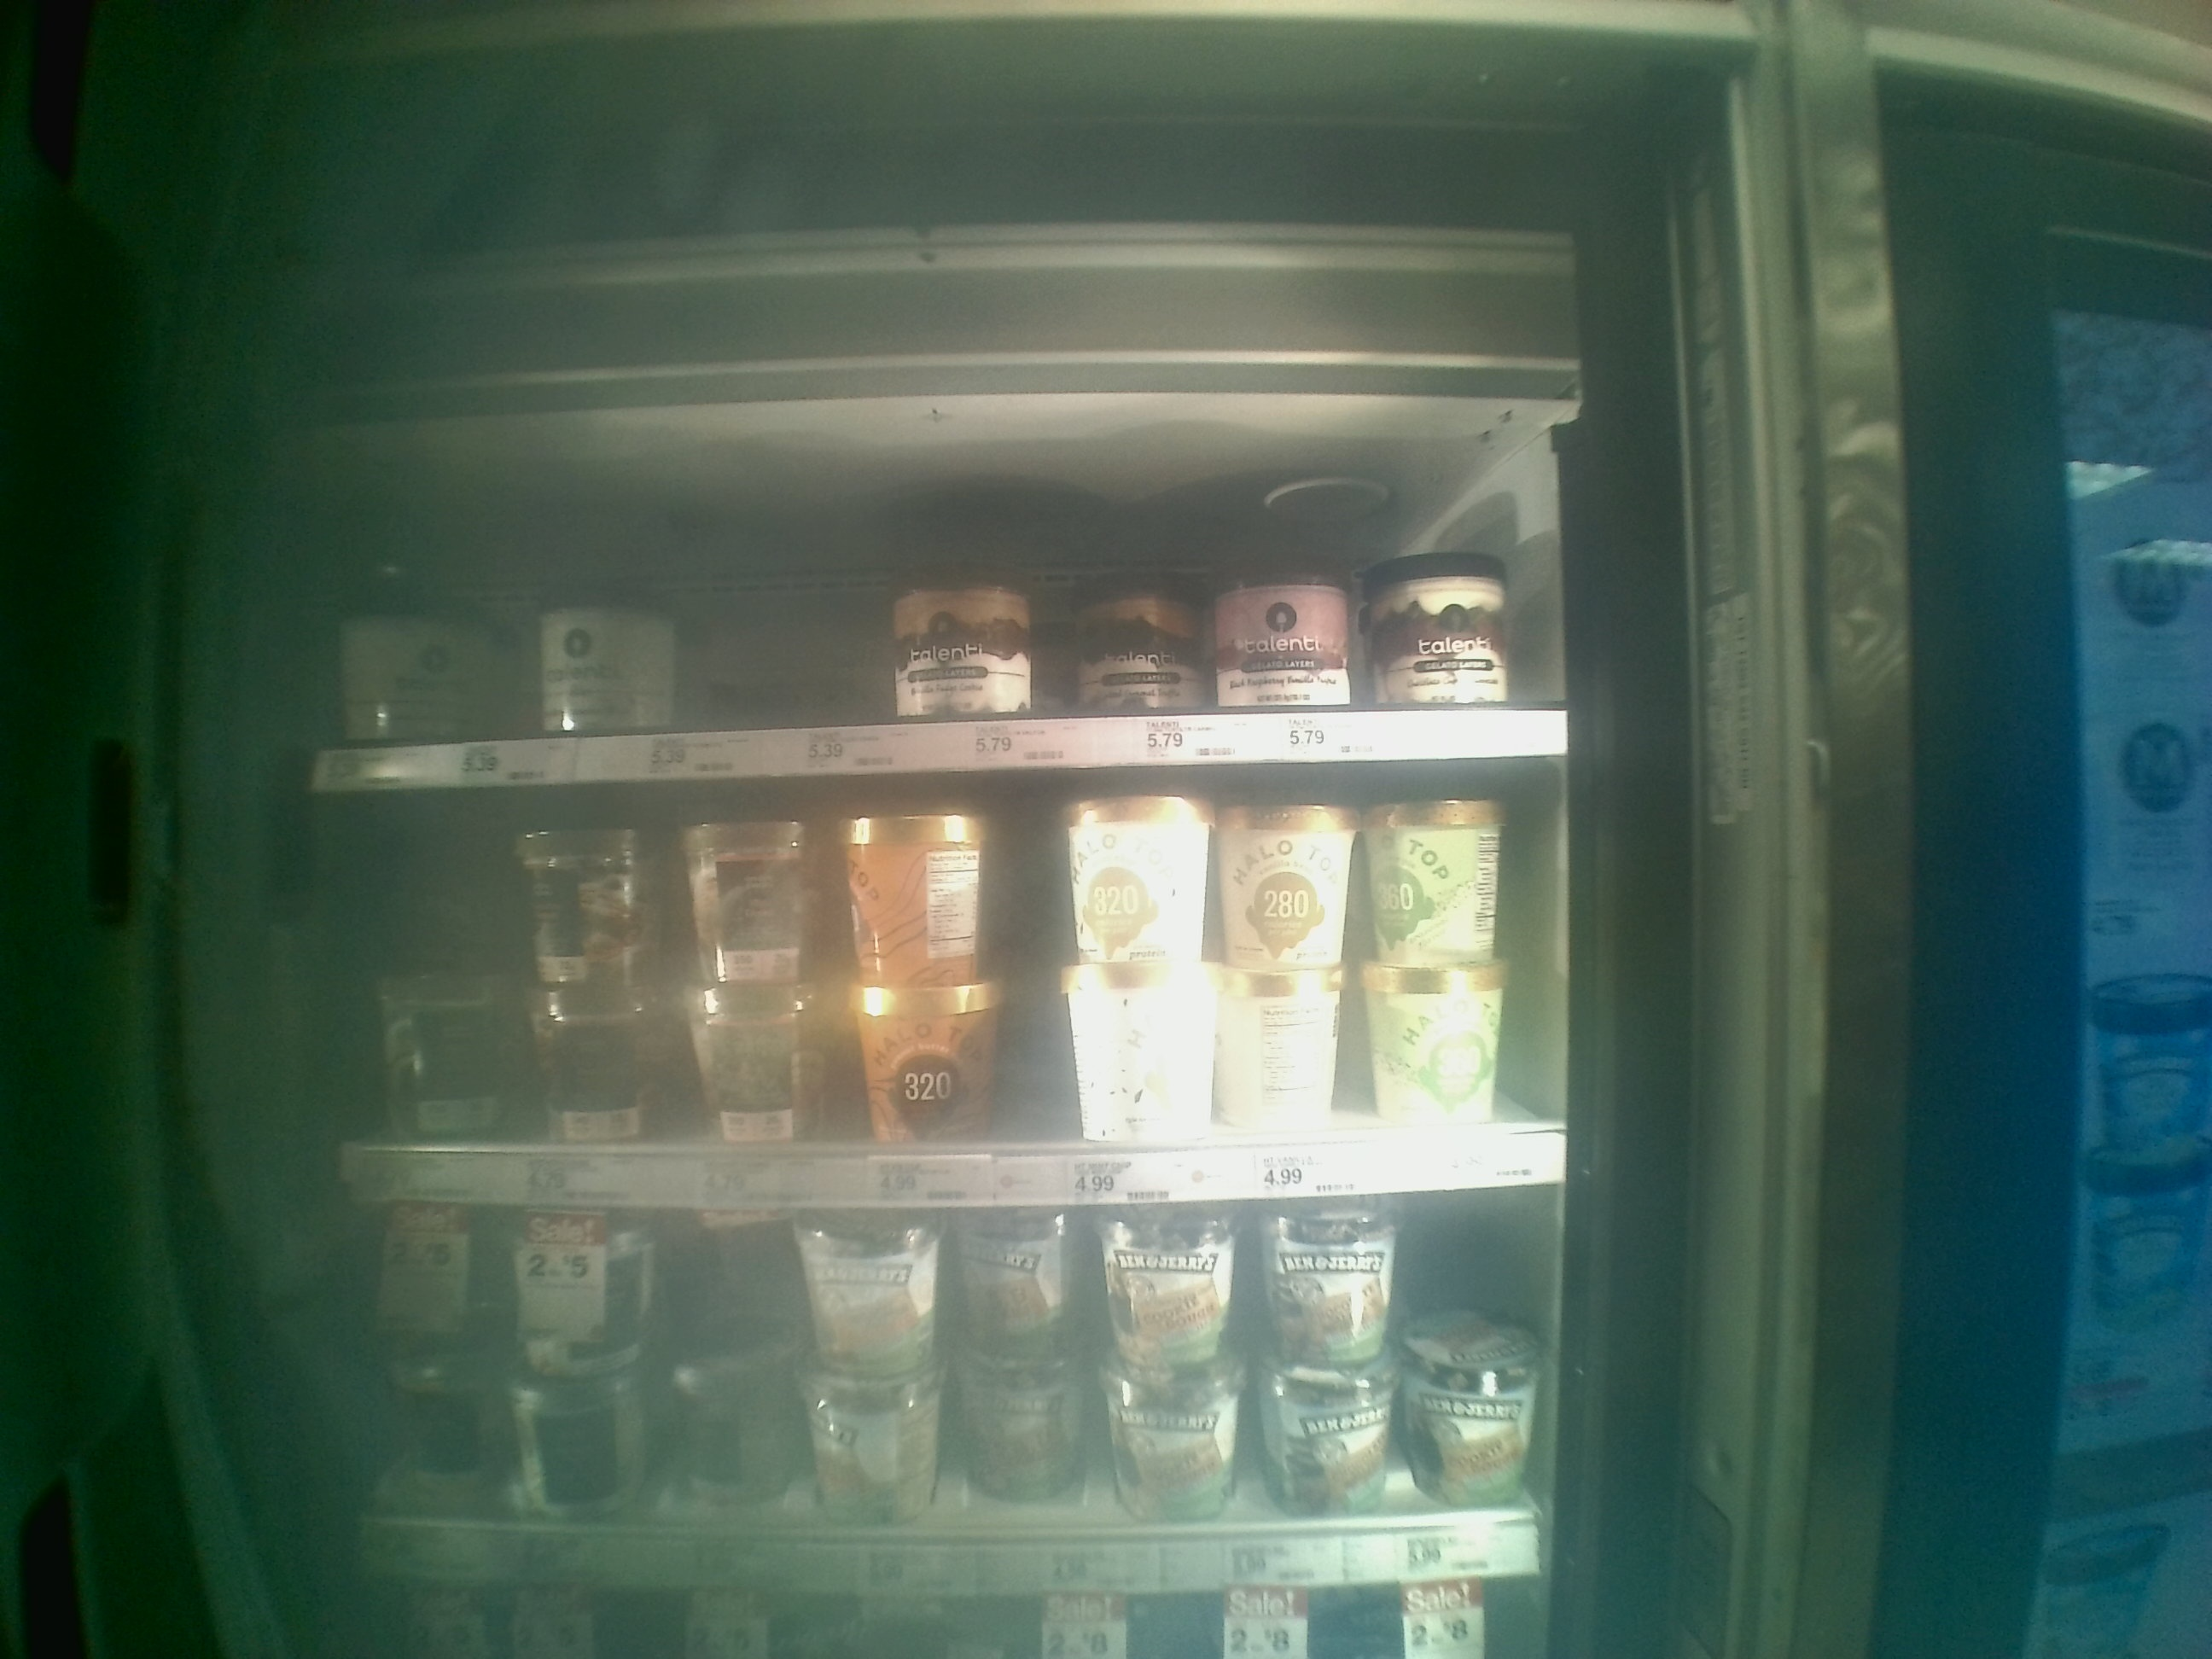ice-cream-shelf: (307, 767, 1583, 1188), (310, 1195, 1555, 1584), (308, 460, 1576, 763)
